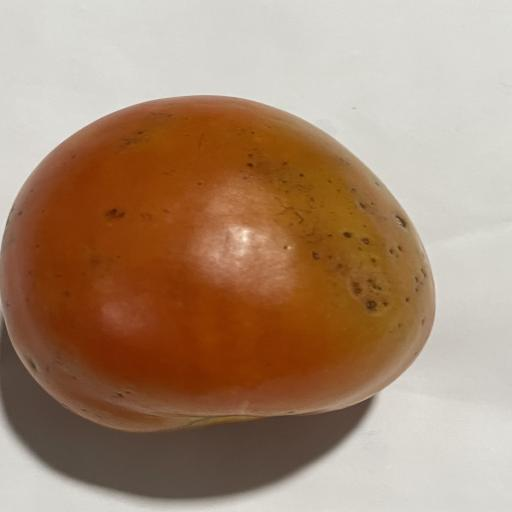unripe: (0, 96, 435, 432)
